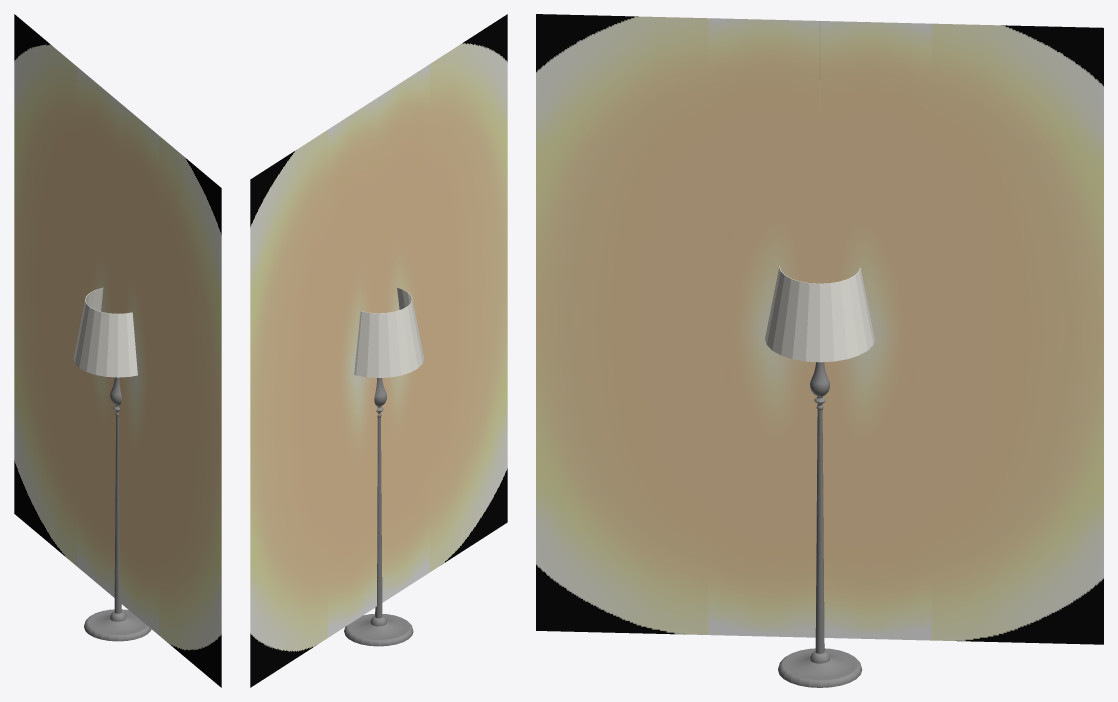
The model's file is floor_lamp.glb.
3 views of the same model, side by side, from view 1: azimuth 30°, elevation 25°; view 2: azimuth 150°, elevation 25°; view 3: azimuth 270°, elevation 25° (orthographic). The views are drawn at different scales.
Parts seen in each view (by area): view 1: mesh_0_ROOT__Компонент#1_Layer0, mesh_2_ROOT__Группа#2__Группа#1_Layer0, mesh_1_ROOT__Группа#2__Группа#4_Layer0; view 2: mesh_0_ROOT__Компонент#1_Layer0, mesh_2_ROOT__Группа#2__Группа#1_Layer0, mesh_1_ROOT__Группа#2__Группа#4_Layer0; view 3: mesh_0_ROOT__Компонент#1_Layer0, mesh_2_ROOT__Группа#2__Группа#1_Layer0, mesh_1_ROOT__Группа#2__Группа#4_Layer0.
Boxes of the visible parts, x1,y1,x2,y2 form: mesh_0_ROOT__Компонент#1_Layer0: (14,14,221,687); mesh_2_ROOT__Группа#2__Группа#1_Layer0: (73,287,137,377); mesh_1_ROOT__Группа#2__Группа#4_Layer0: (84,377,151,641); mesh_0_ROOT__Компонент#1_Layer0: (250,14,507,687); mesh_2_ROOT__Группа#2__Группа#1_Layer0: (354,287,424,377); mesh_1_ROOT__Группа#2__Группа#4_Layer0: (344,378,413,646); mesh_0_ROOT__Компонент#1_Layer0: (536,14,1103,644); mesh_2_ROOT__Группа#2__Группа#1_Layer0: (765,266,874,362); mesh_1_ROOT__Группа#2__Группа#4_Layer0: (778,362,862,687).
Bounding box in the file's own units: 365 × 2368 × 1877.
Materials: 3 (1 with a texture image).
